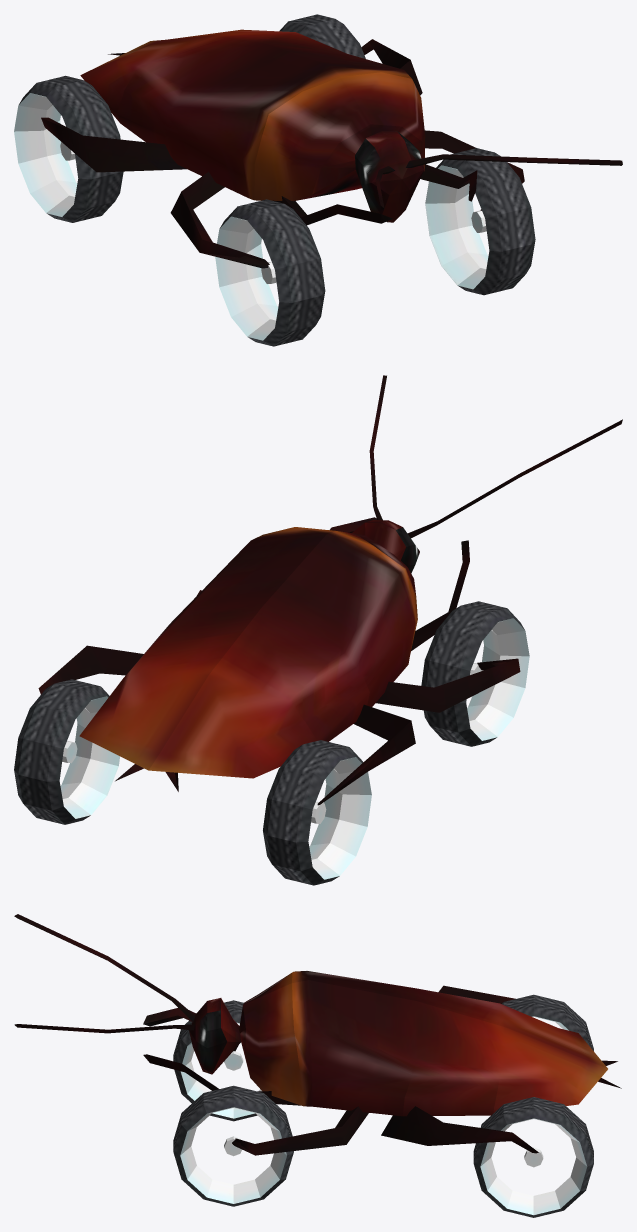
Rendered from cockroach.glb.
The picture shows the model from 3 angles, top to bottom: view 1: azimuth 30°, elevation 25°; view 2: azimuth 150°, elevation 25°; view 3: azimuth 270°, elevation 25°; orthographic projection. The views are drawn at different scales.
Visible parts, largest first — view 1: ZtoY, wheel4 (×4), legs4, antenna4; view 2: ZtoY, wheel4 (×3), legs4, antenna4; view 3: ZtoY, wheel4 (×4), legs4, antenna4.
Boxes of the visible parts, x1,y1,x2,y2 form: ZtoY: [80, 29, 425, 222]; wheel4 (×4): [14, 14, 535, 346]; legs4: [41, 39, 524, 268]; antenna4: [375, 154, 622, 209]; ZtoY: [79, 520, 419, 778]; wheel4 (×3): [14, 601, 529, 885]; legs4: [38, 517, 520, 805]; antenna4: [369, 375, 622, 538]; ZtoY: [189, 971, 607, 1116]; wheel4 (×4): [173, 994, 593, 1217]; legs4: [143, 985, 538, 1155]; antenna4: [14, 914, 195, 1033].
Bounding box in the file's own units: 4.84 × 3.27 × 9.2.
Materials: 5 (5 with a texture image).
